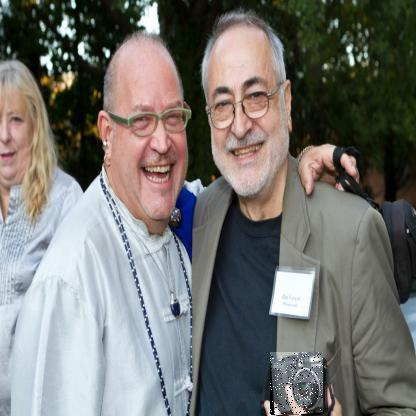Camera: (271, 353, 325, 416)
